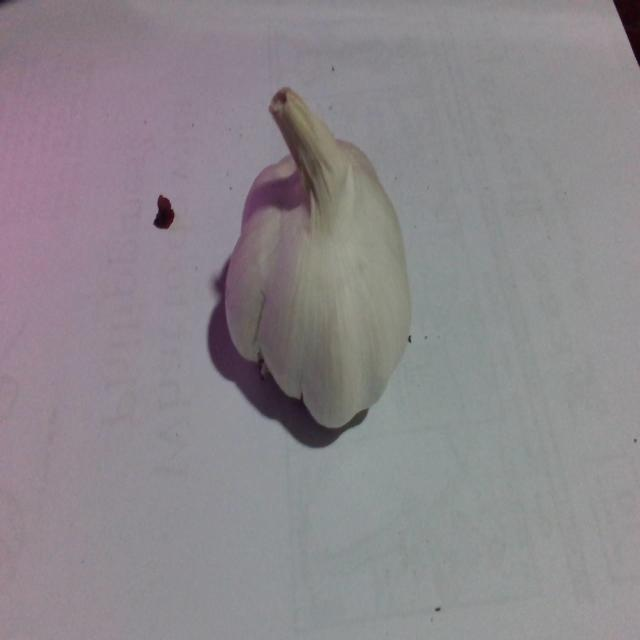garlic: (224, 144, 412, 434)
